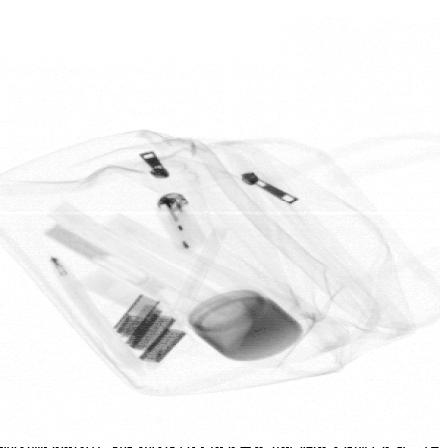Lighter: (155, 191, 207, 255)
